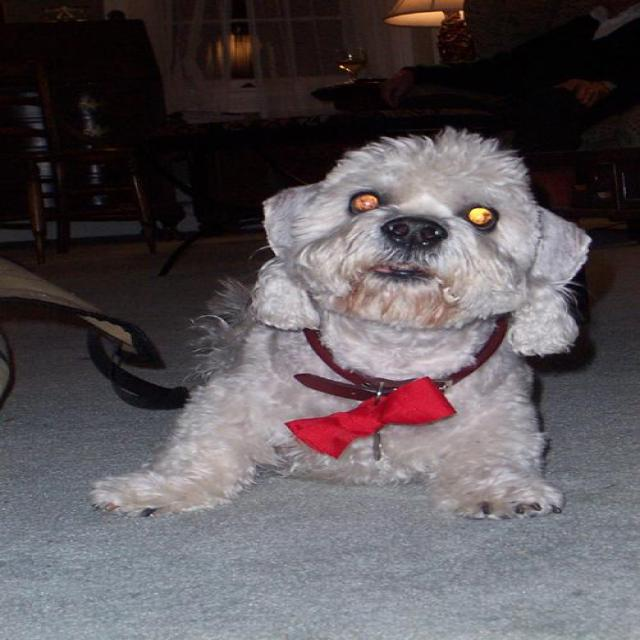dandie_dinmont: (88, 132, 584, 523)
